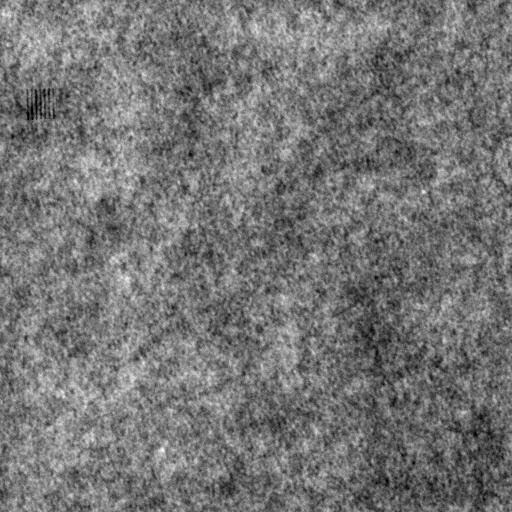DefectTypeB: (26, 86, 58, 120)
